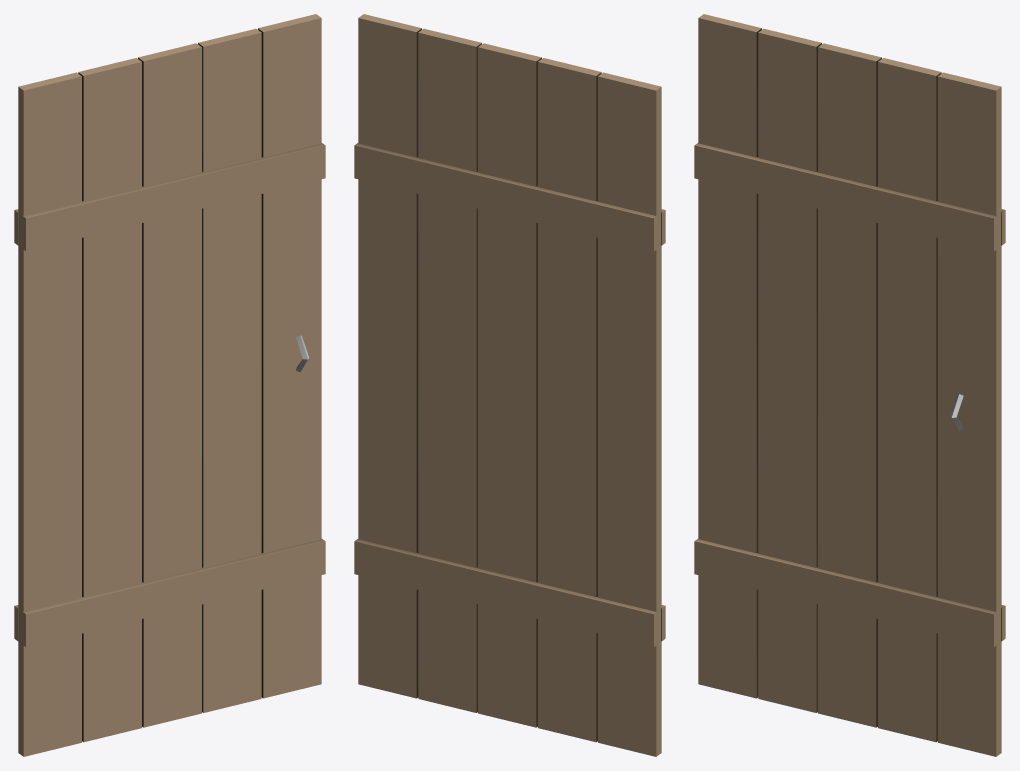
File: puerta_hoja.glb
The picture shows the model from 3 angles, left to right: view 1: azimuth 30°, elevation 25°; view 2: azimuth 150°, elevation 25°; view 3: azimuth 330°, elevation 25°; orthographic projection.
Visible parts, largest first — view 1: puerta_hoja; view 2: puerta_hoja; view 3: puerta_hoja.
Part boxes in pixels (left/top/right/bottom): puerta_hoja: left=14, top=14, right=325, bottom=756; puerta_hoja: left=354, top=14, right=665, bottom=756; puerta_hoja: left=694, top=14, right=1005, bottom=756.
Size of the model in its own units: 0.95 by 2.02 by 0.132.
